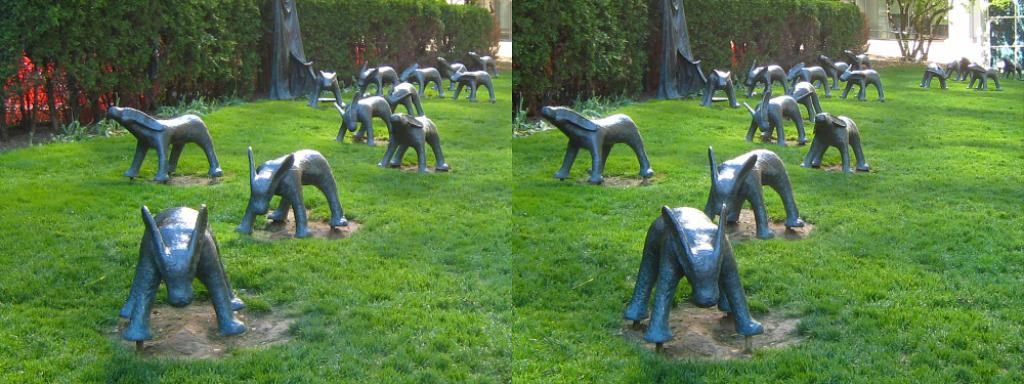Tree: (4, 0, 491, 138), (517, 0, 860, 110), (883, 0, 952, 59)
